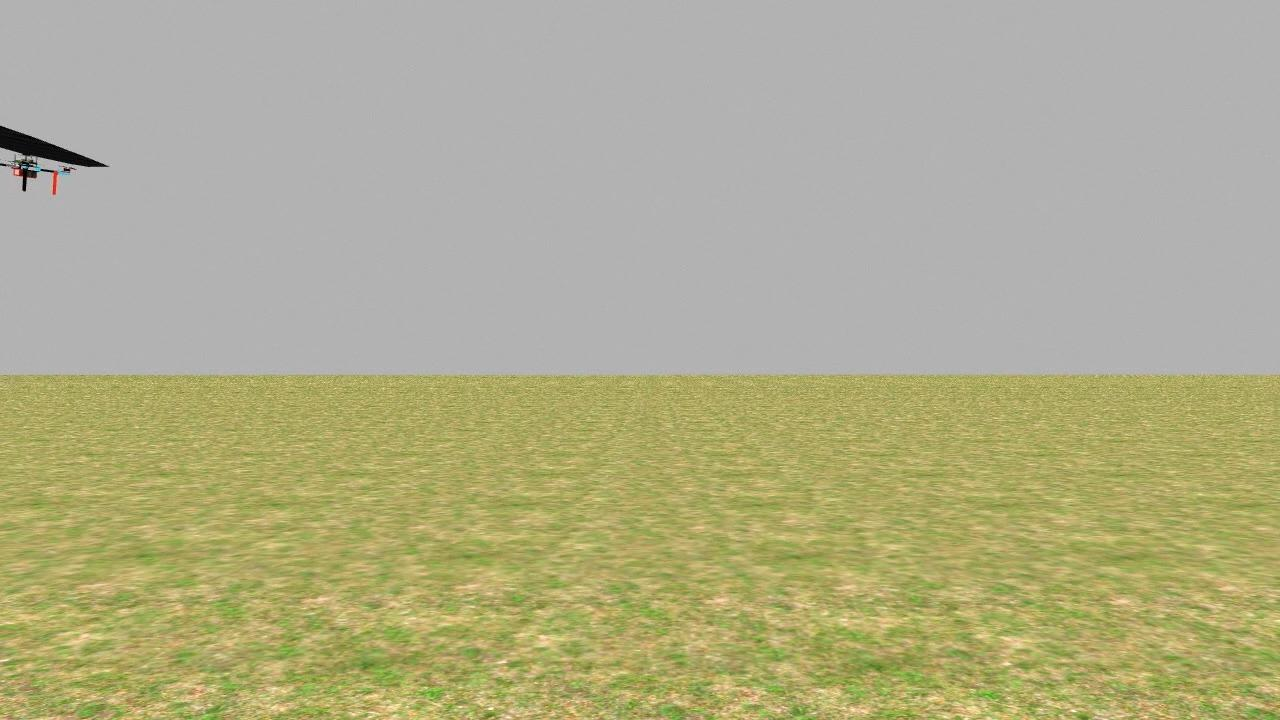UAV: (0, 121, 138, 207)
